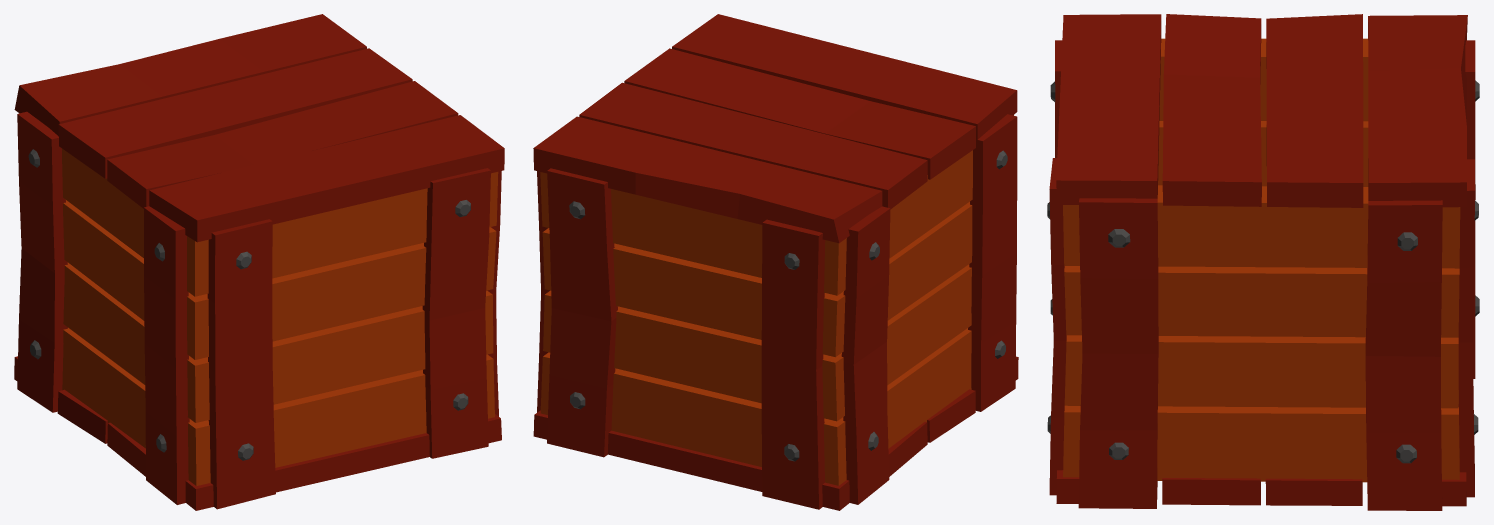
File: Item20.fbx
The picture shows the model from 3 angles, left to right: view 1: azimuth 30°, elevation 25°; view 2: azimuth 150°, elevation 25°; view 3: azimuth 270°, elevation 25°; orthographic projection. The views are drawn at different scales.
Visible parts, largest first — view 1: Item20; view 2: Item20; view 3: Item20.
Part boxes in pixels (x1=…): Item20: x1=14, y1=14, x2=504, y2=510; Item20: x1=533, y1=14, x2=1018, y2=510; Item20: x1=1047, y1=14, x2=1479, y2=510.
Size of what is drawn, in the model's own units: 64.18 by 54.3 by 65.15.
